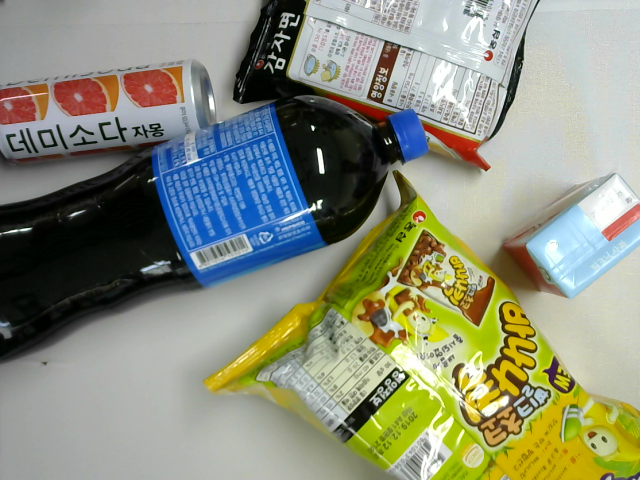Banana_Kick: (204, 167, 640, 480)
Demisoda_Grapefruit_Can_250ml: (1, 59, 221, 163)
Pepsi_Cola_1.5L: (1, 94, 432, 366)
Picnic_Apple: (500, 173, 640, 301)
Potato: (230, 1, 546, 173)
